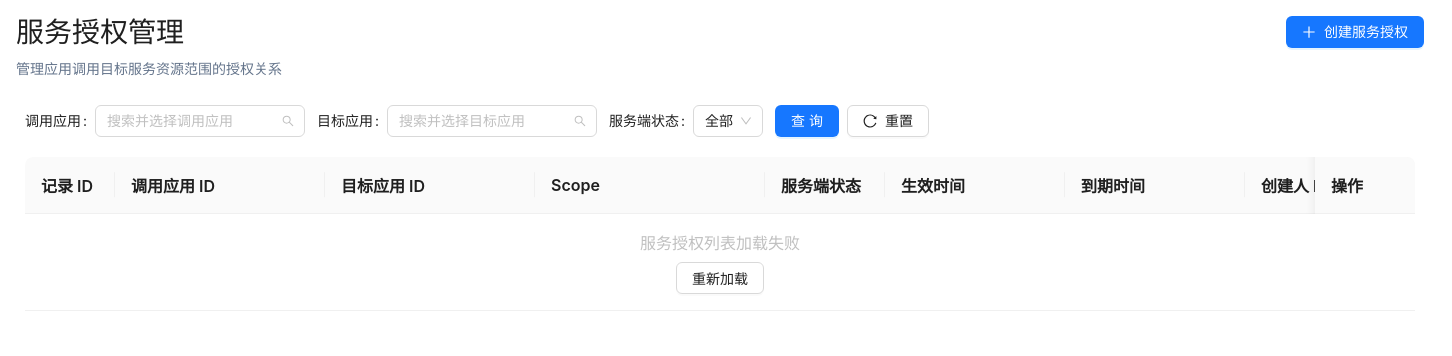
AdminServiceGrantsPage › retries a failed grants list
The image size is (1452, 356).
Check: the text "服务授权列表加载失败" is shown, box left=640, top=233, right=800, bottom=253
Click the button "重新加载": x=720, y=278 left=676, top=262, right=764, bottom=294
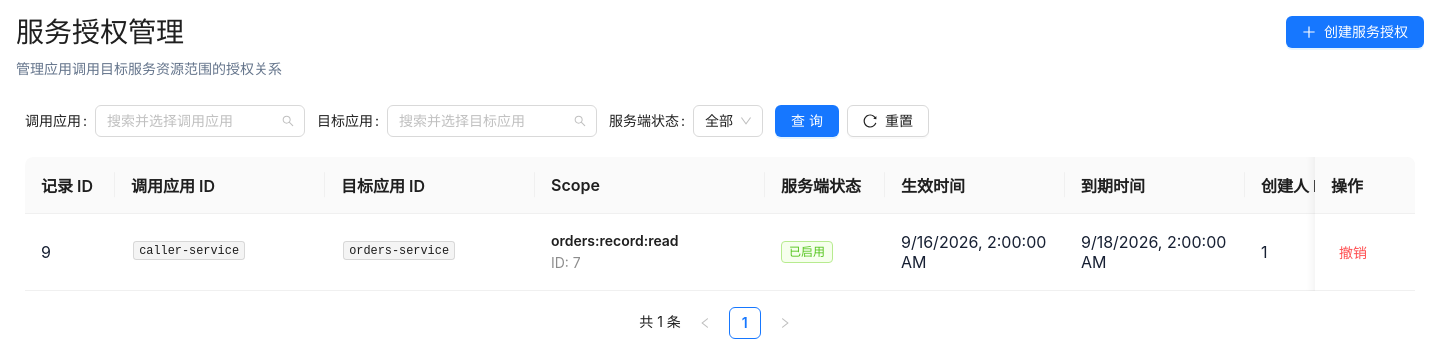
Check: the text "orders:record:read" is shown, box left=551, top=232, right=679, bottom=249
